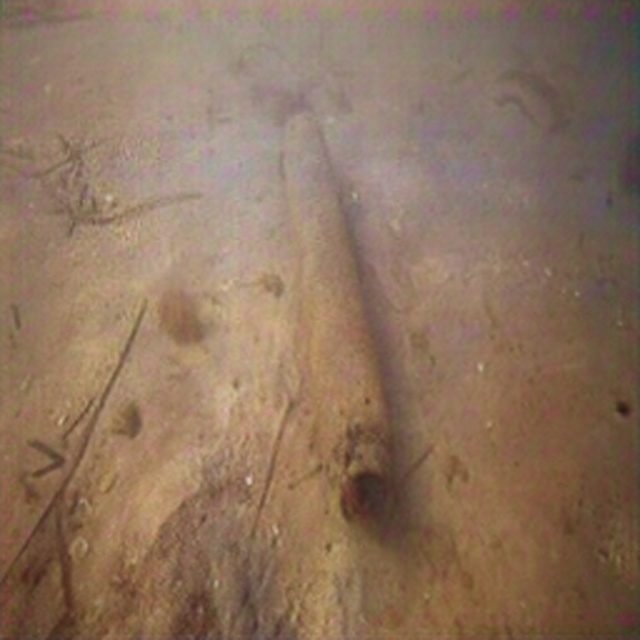mine: (280, 106, 397, 533)
